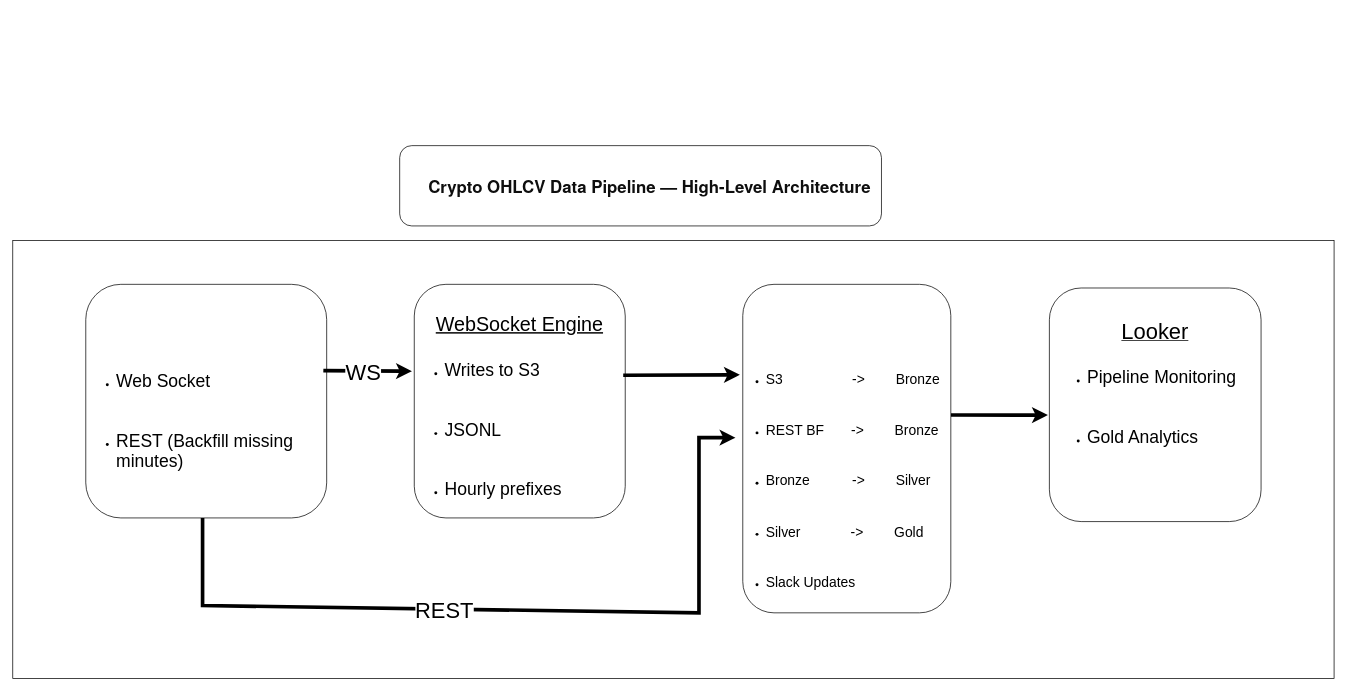
The diagram is 1347 pixels wide and 691 high, and some of its shapes have lost their labels. The box of each missing label's shape, as (x1, y1, x2, y2) in pixels:
Dagster (Hourly): (742, 284, 951, 613)
Exchanges: (85, 284, 327, 518)
